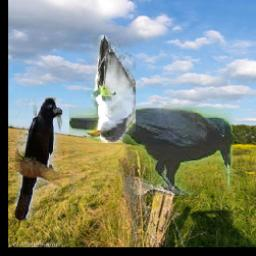Crow: (69, 108, 233, 196), (15, 99, 62, 221)
Cuckoo: (87, 35, 136, 143)
